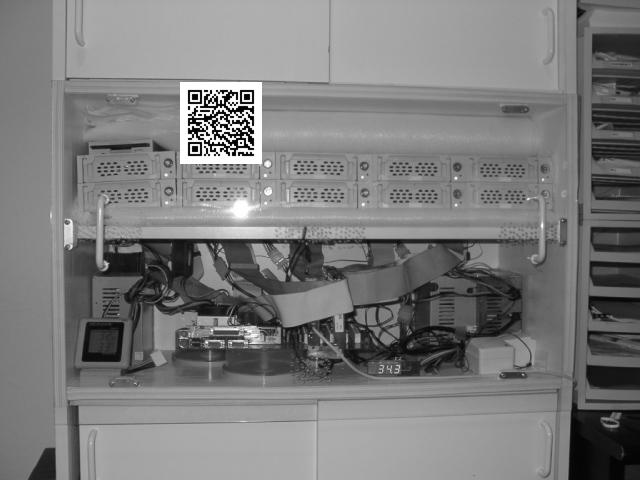qr_code: (180, 82, 263, 162)
